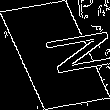N_W: (7, 29, 103, 81)
